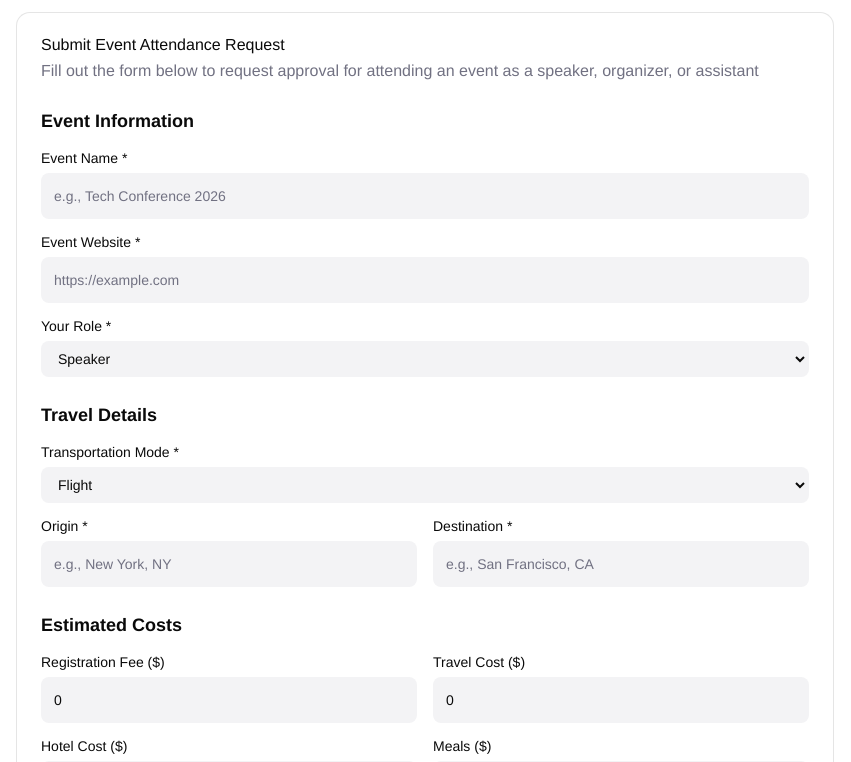
Test case: SubmitRequestPage › auto-calculates total cost as values change
Replace the text in the number field labelled "Registration Fee ($)" with "120" at (229, 700), box [41,677,417,723]
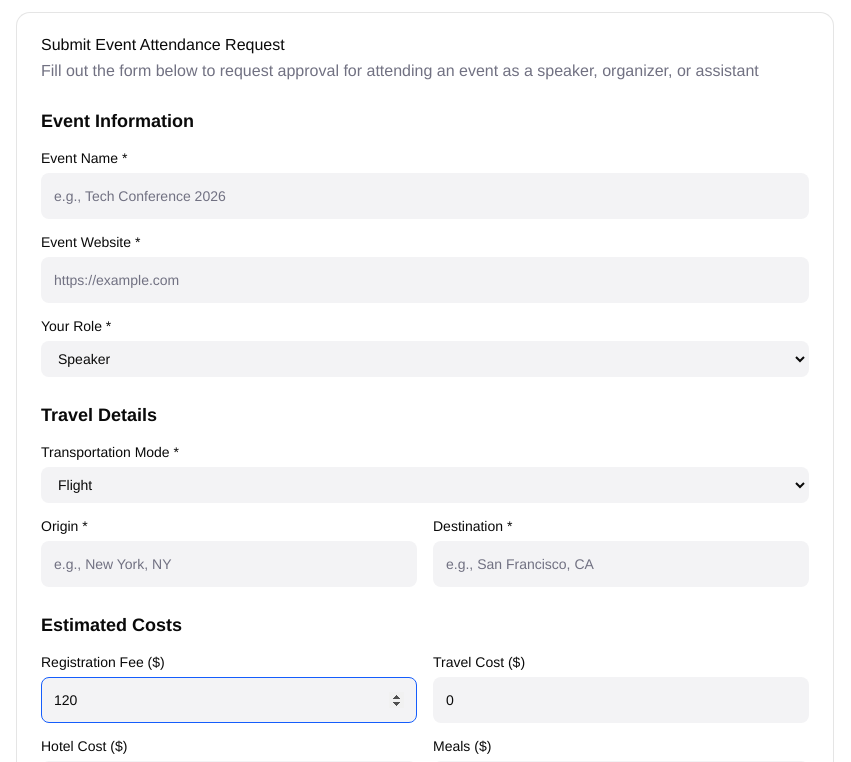
Replace the text in the number field labelled "Travel Cost ($)" with "80.5" at (621, 700), box [433,677,809,723]
(page scrolled)
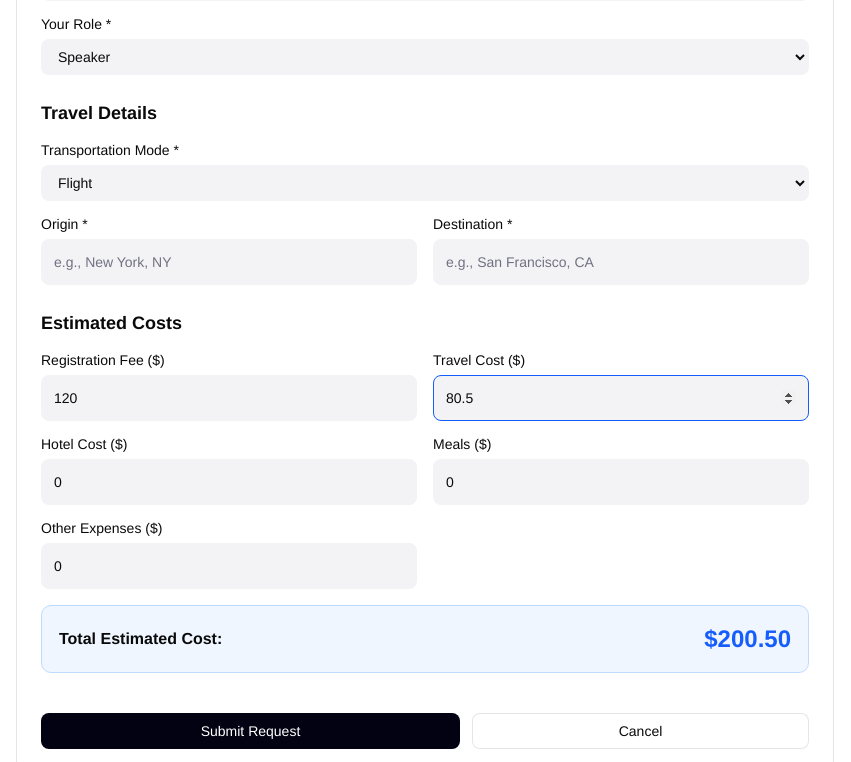
Expected: the text "$200.50" is shown, [704,623,791,655]
